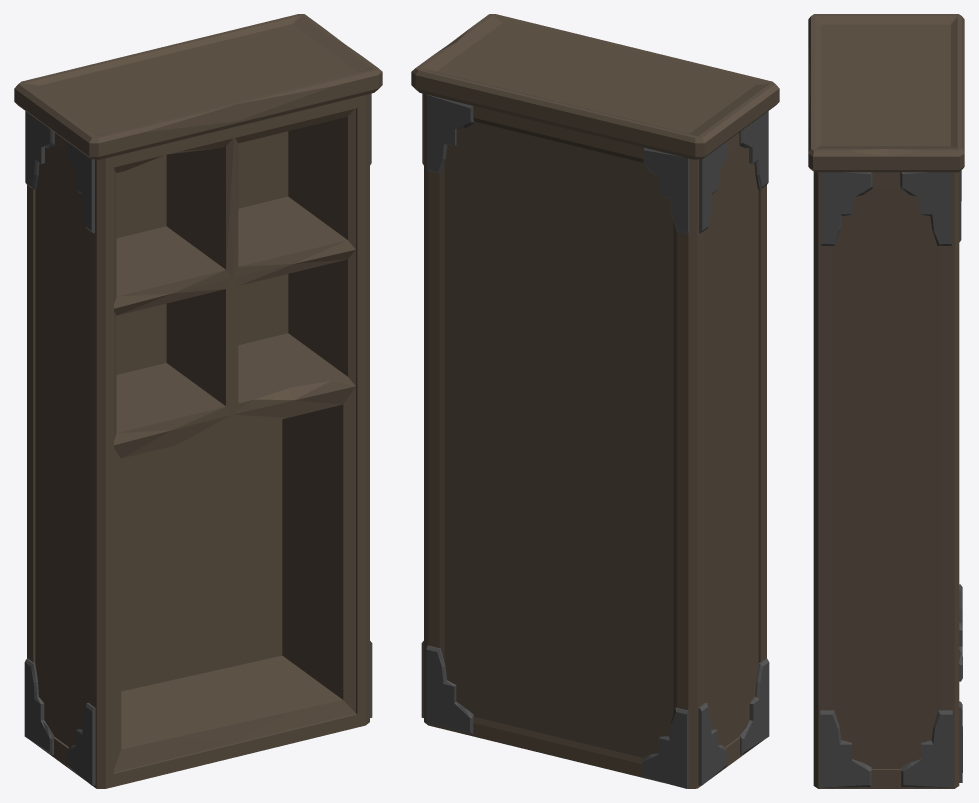
File: Shelving_004.fbx
3 renders of one model, left to right at view 1: azimuth 30°, elevation 25°; view 2: azimuth 150°, elevation 25°; view 3: azimuth 270°, elevation 25°, orthographic. The views are drawn at different scales.
Parts seen in each view (by area): view 1: Shelving_004; view 2: Shelving_004; view 3: Shelving_004.
Part boxes in pixels (x1=…): Shelving_004: x1=14, y1=14, x2=382, y2=788; Shelving_004: x1=411, y1=14, x2=779, y2=788; Shelving_004: x1=808, y1=14, x2=964, y2=788.
Size of the model in its own units: 0.5786 by 1.23 by 0.2727.
